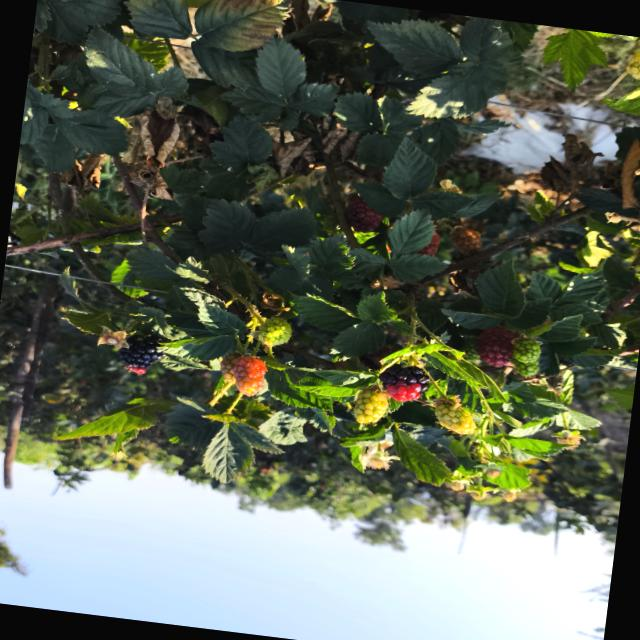marron: (379, 364, 429, 402), (119, 334, 163, 374)
naranja: (477, 328, 515, 367), (232, 356, 266, 396), (346, 196, 383, 232), (450, 228, 482, 252), (417, 231, 440, 255), (220, 352, 238, 382)
verde: (434, 396, 476, 434), (353, 389, 388, 424), (257, 317, 291, 345), (512, 337, 540, 365), (511, 357, 538, 376)
